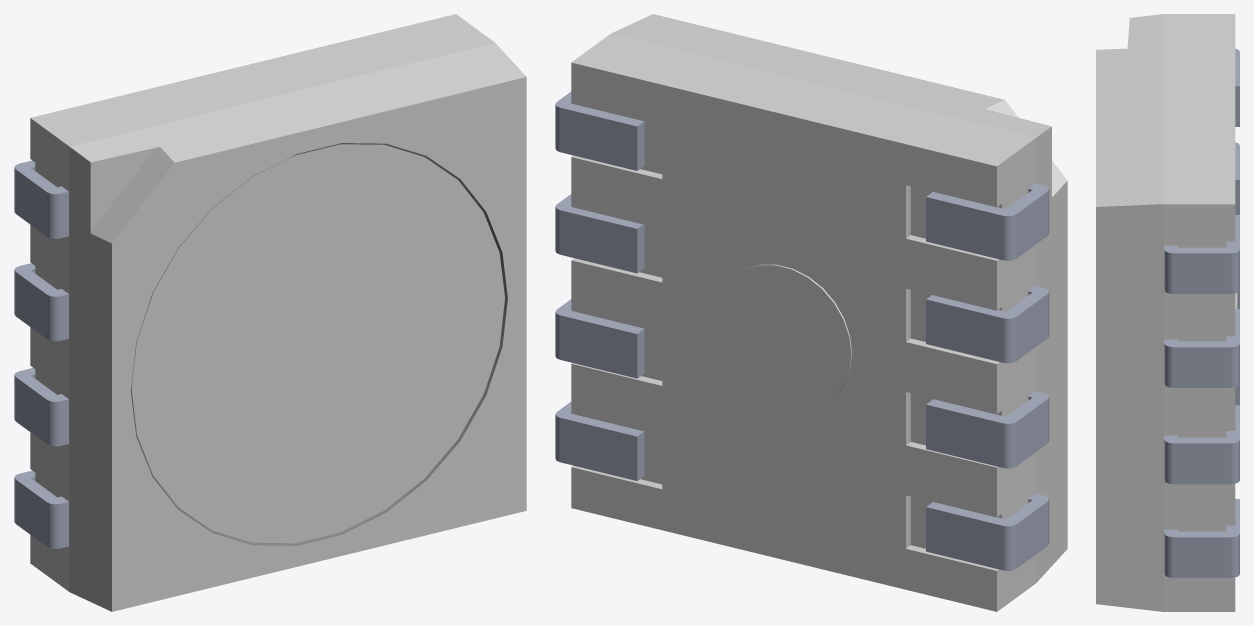
Rendered from HONGLITRONIC_HL_5050RGBW_S1_A27.3dmodel.glb.
3 renders of one model, left to right at view 1: azimuth 30°, elevation 25°; view 2: azimuth 150°, elevation 25°; view 3: azimuth 270°, elevation 25°, orthographic. The views are drawn at different scales.
Parts seen in each view (by area): view 1: =>[0:1:1:1]; view 2: =>[0:1:1:1]; view 3: =>[0:1:1:1].
Boxes of the visible parts, x1=… form: =>[0:1:1:1]: x1=14, y1=14, x2=526, y2=611; =>[0:1:1:1]: x1=555, y1=14, x2=1067, y2=611; =>[0:1:1:1]: x1=1096, y1=14, x2=1239, y2=611.
Bounding box in the file's own units: 5.4 × 5 × 1.6.
